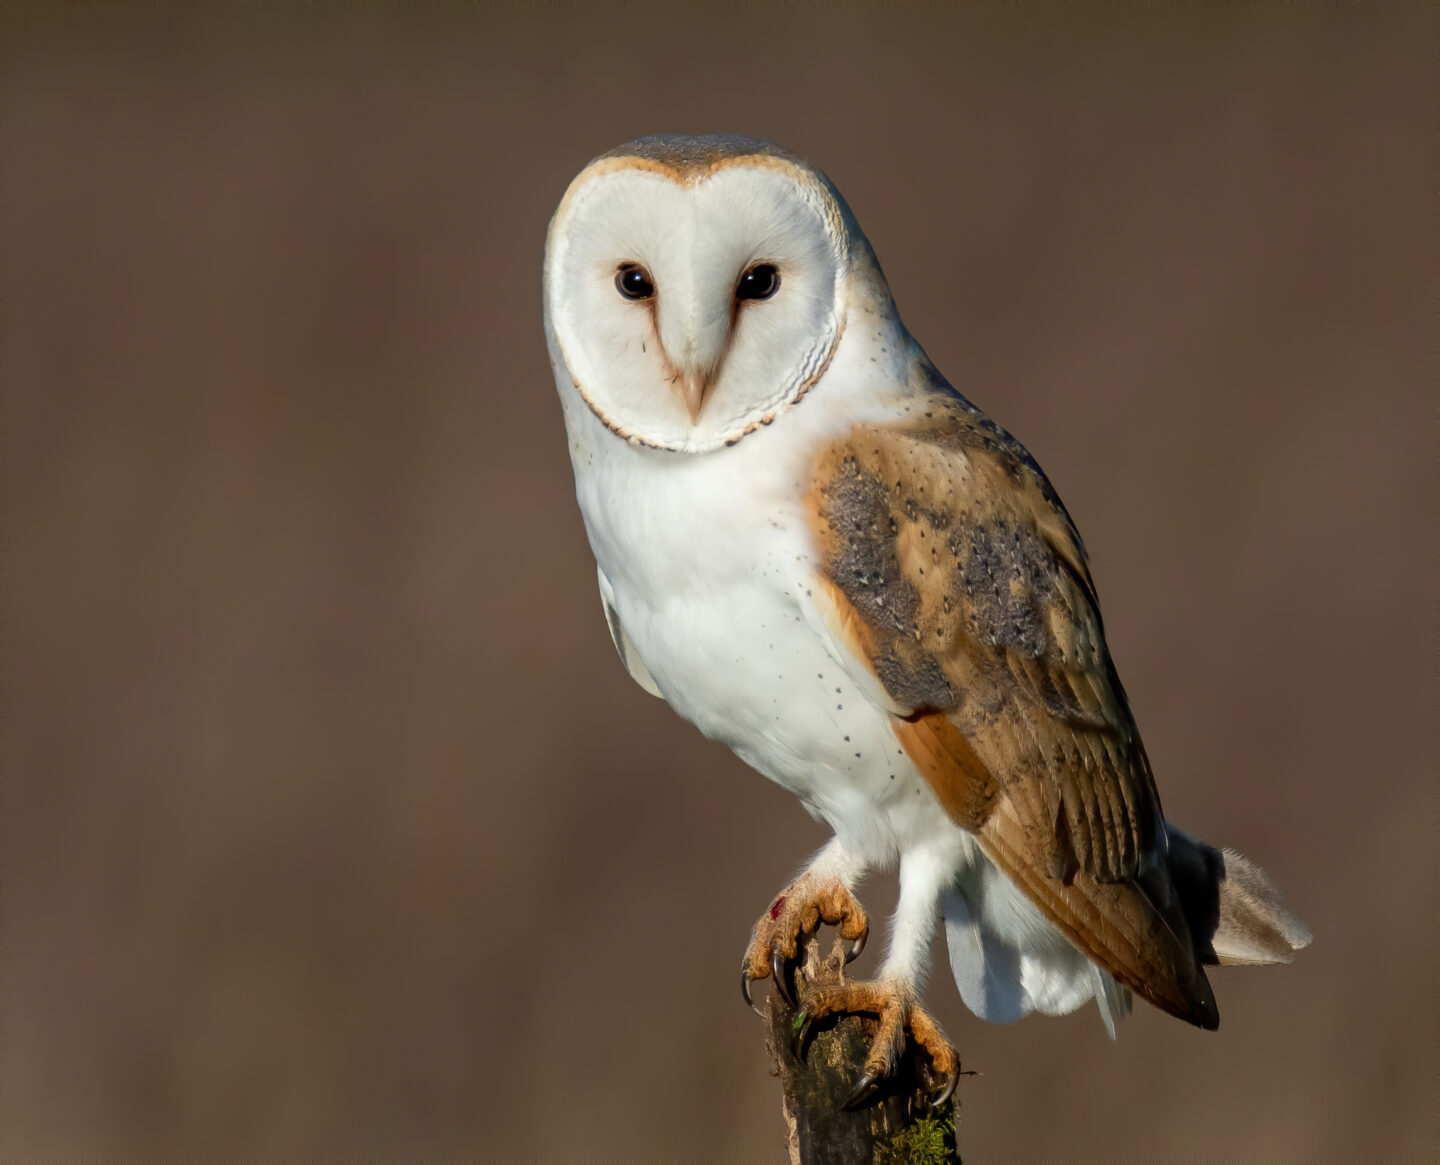owl: (526, 115, 1295, 1165)
